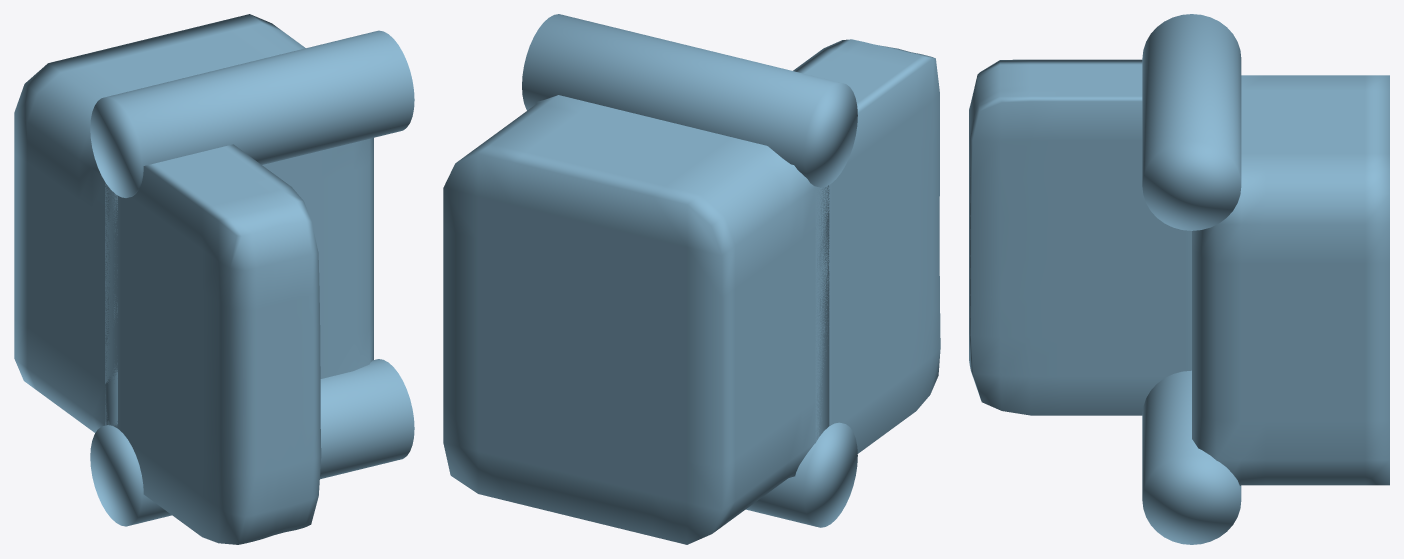
Rendered from downeyschair.fbx.
3 renders of one model, left to right at view 1: azimuth 30°, elevation 25°; view 2: azimuth 150°, elevation 25°; view 3: azimuth 270°, elevation 25°, orthographic. The views are drawn at different scales.
Visible parts, largest first — view 1: Cube_001, Cube, Cylinder_001, Cylinder; view 2: Cube, Cube_001, Cylinder_001, Cylinder; view 3: Cube, Cube_001, Cylinder_001, Cylinder.
Part boxes in pixels (x1=…): Cube_001: x1=105, y1=144, x2=321, y2=544; Cube: x1=14, y1=14, x2=373, y2=432; Cylinder_001: x1=90, y1=30, x2=414, y2=197; Cylinder: x1=90, y1=359, x2=414, y2=526; Cube: x1=443, y1=95, x2=829, y2=544; Cube_001: x1=793, y1=39, x2=940, y2=453; Cylinder_001: x1=522, y1=14, x2=857, y2=187; Cylinder: x1=746, y1=422, x2=857, y2=527; Cube: x1=1192, y1=75, x2=1389, y2=485; Cube_001: x1=969, y1=59, x2=1191, y2=415; Cylinder_001: x1=1142, y1=14, x2=1241, y2=230; Cylinder: x1=1142, y1=370, x2=1241, y2=544.
Bounding box in the file's own units: 6.08 × 9 × 8.5.
